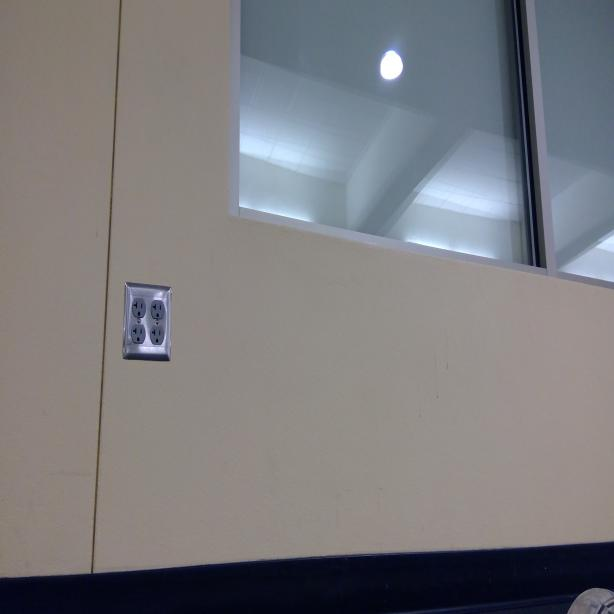typeb: (131, 296, 147, 318), (130, 326, 146, 345), (148, 324, 163, 344), (150, 299, 164, 320)
